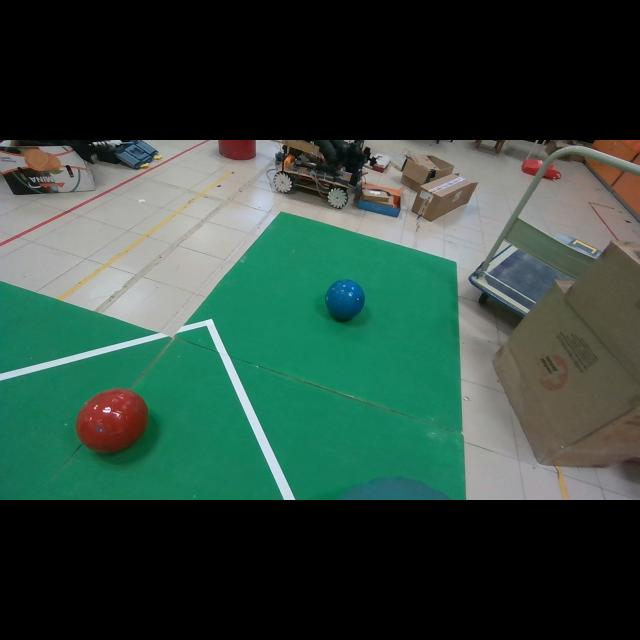B: (325, 279, 365, 321)
R: (76, 389, 149, 452)
